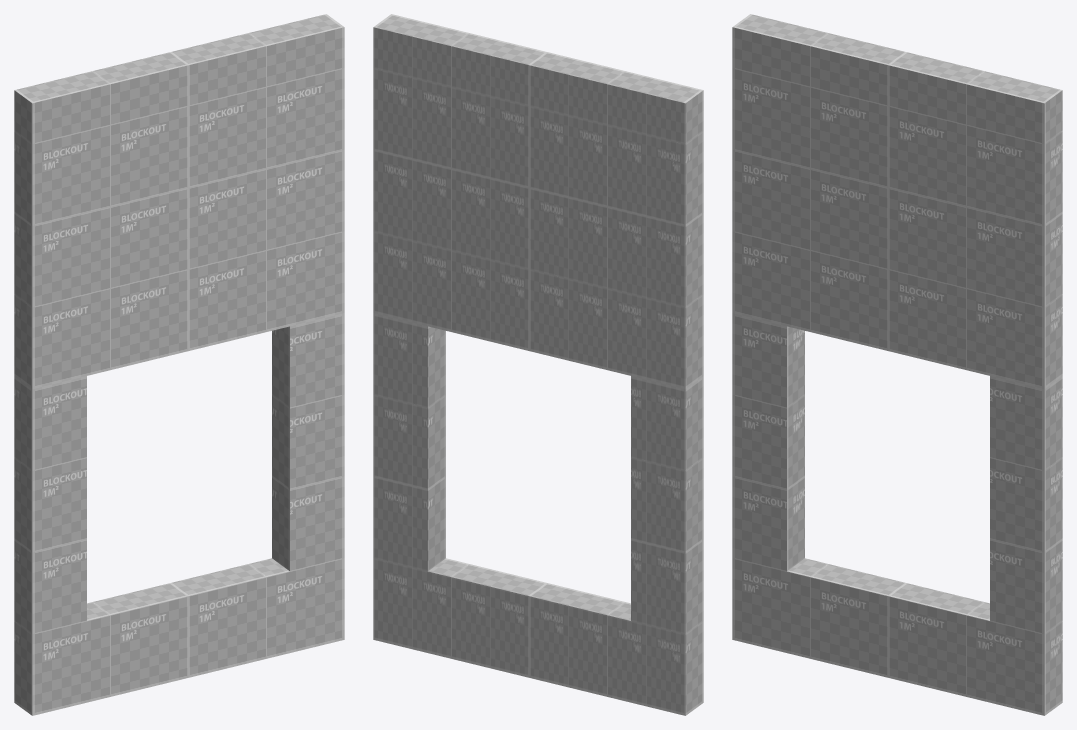
The model's file is BlockoutThinWall04WindowLow.fbx.
3 views of the same model, side by side, from view 1: azimuth 30°, elevation 25°; view 2: azimuth 150°, elevation 25°; view 3: azimuth 330°, elevation 25° (orthographic).
Parts seen in each view (by area): view 1: BlockoutThinWall04WindowLow; view 2: BlockoutThinWall04WindowLow; view 3: BlockoutThinWall04WindowLow.
Part boxes in pixels (<box>): BlockoutThinWall04WindowLow: <box>14,14,344,715</box>; BlockoutThinWall04WindowLow: <box>373,14,703,715</box>; BlockoutThinWall04WindowLow: <box>732,14,1062,715</box>.
Size of the model in its own units: 400 by 750 by 40.
